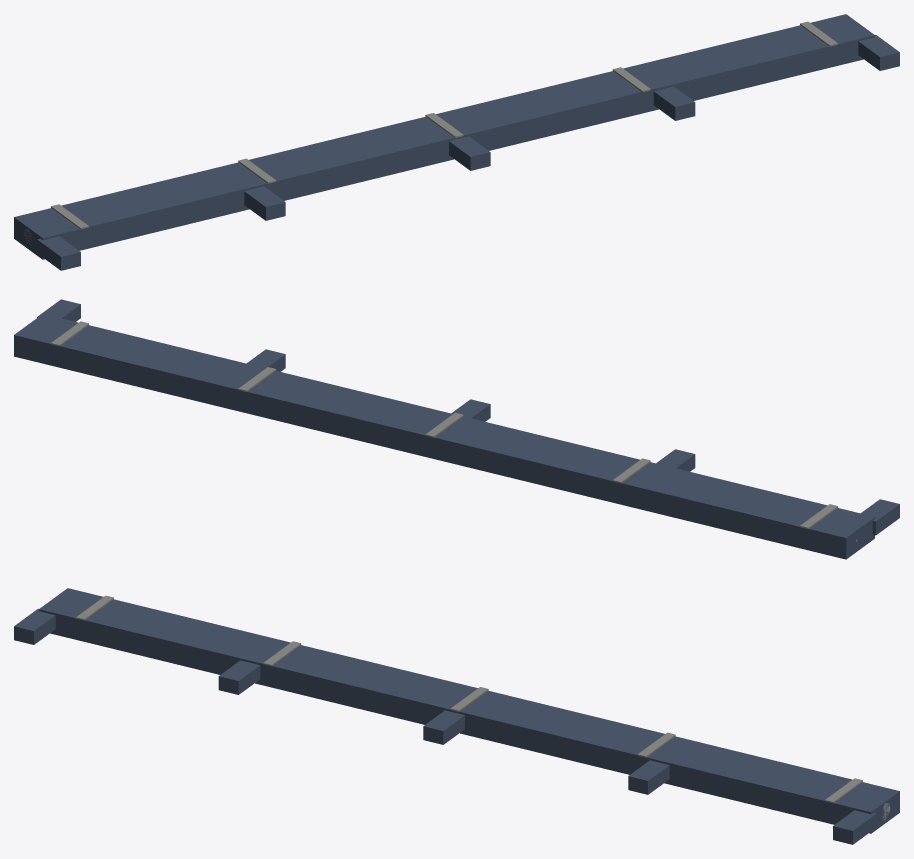
File: rs50s_manifold.obj
3 views of the same model, one above another, from view 1: azimuth 30°, elevation 25°; view 2: azimuth 150°, elevation 25°; view 3: azimuth 330°, elevation 25° (orthographic).
Visible parts, largest first — view 1: rs50s_manifold; view 2: rs50s_manifold; view 3: rs50s_manifold.
Part boxes in pixels (<box>): rs50s_manifold: <box>14,14,899,270</box>; rs50s_manifold: <box>14,299,899,559</box>; rs50s_manifold: <box>14,588,899,844</box>.
Bounding box in the file's own units: 5.04 × 0.132 × 0.53.
